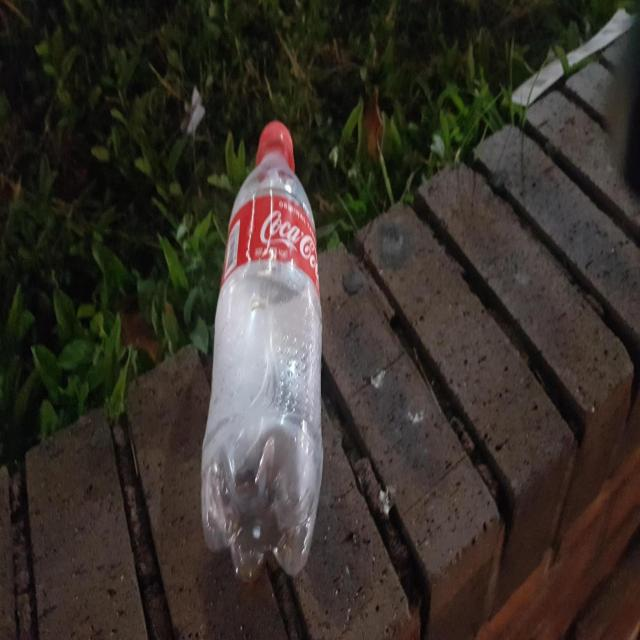plastic: (202, 120, 323, 581)
